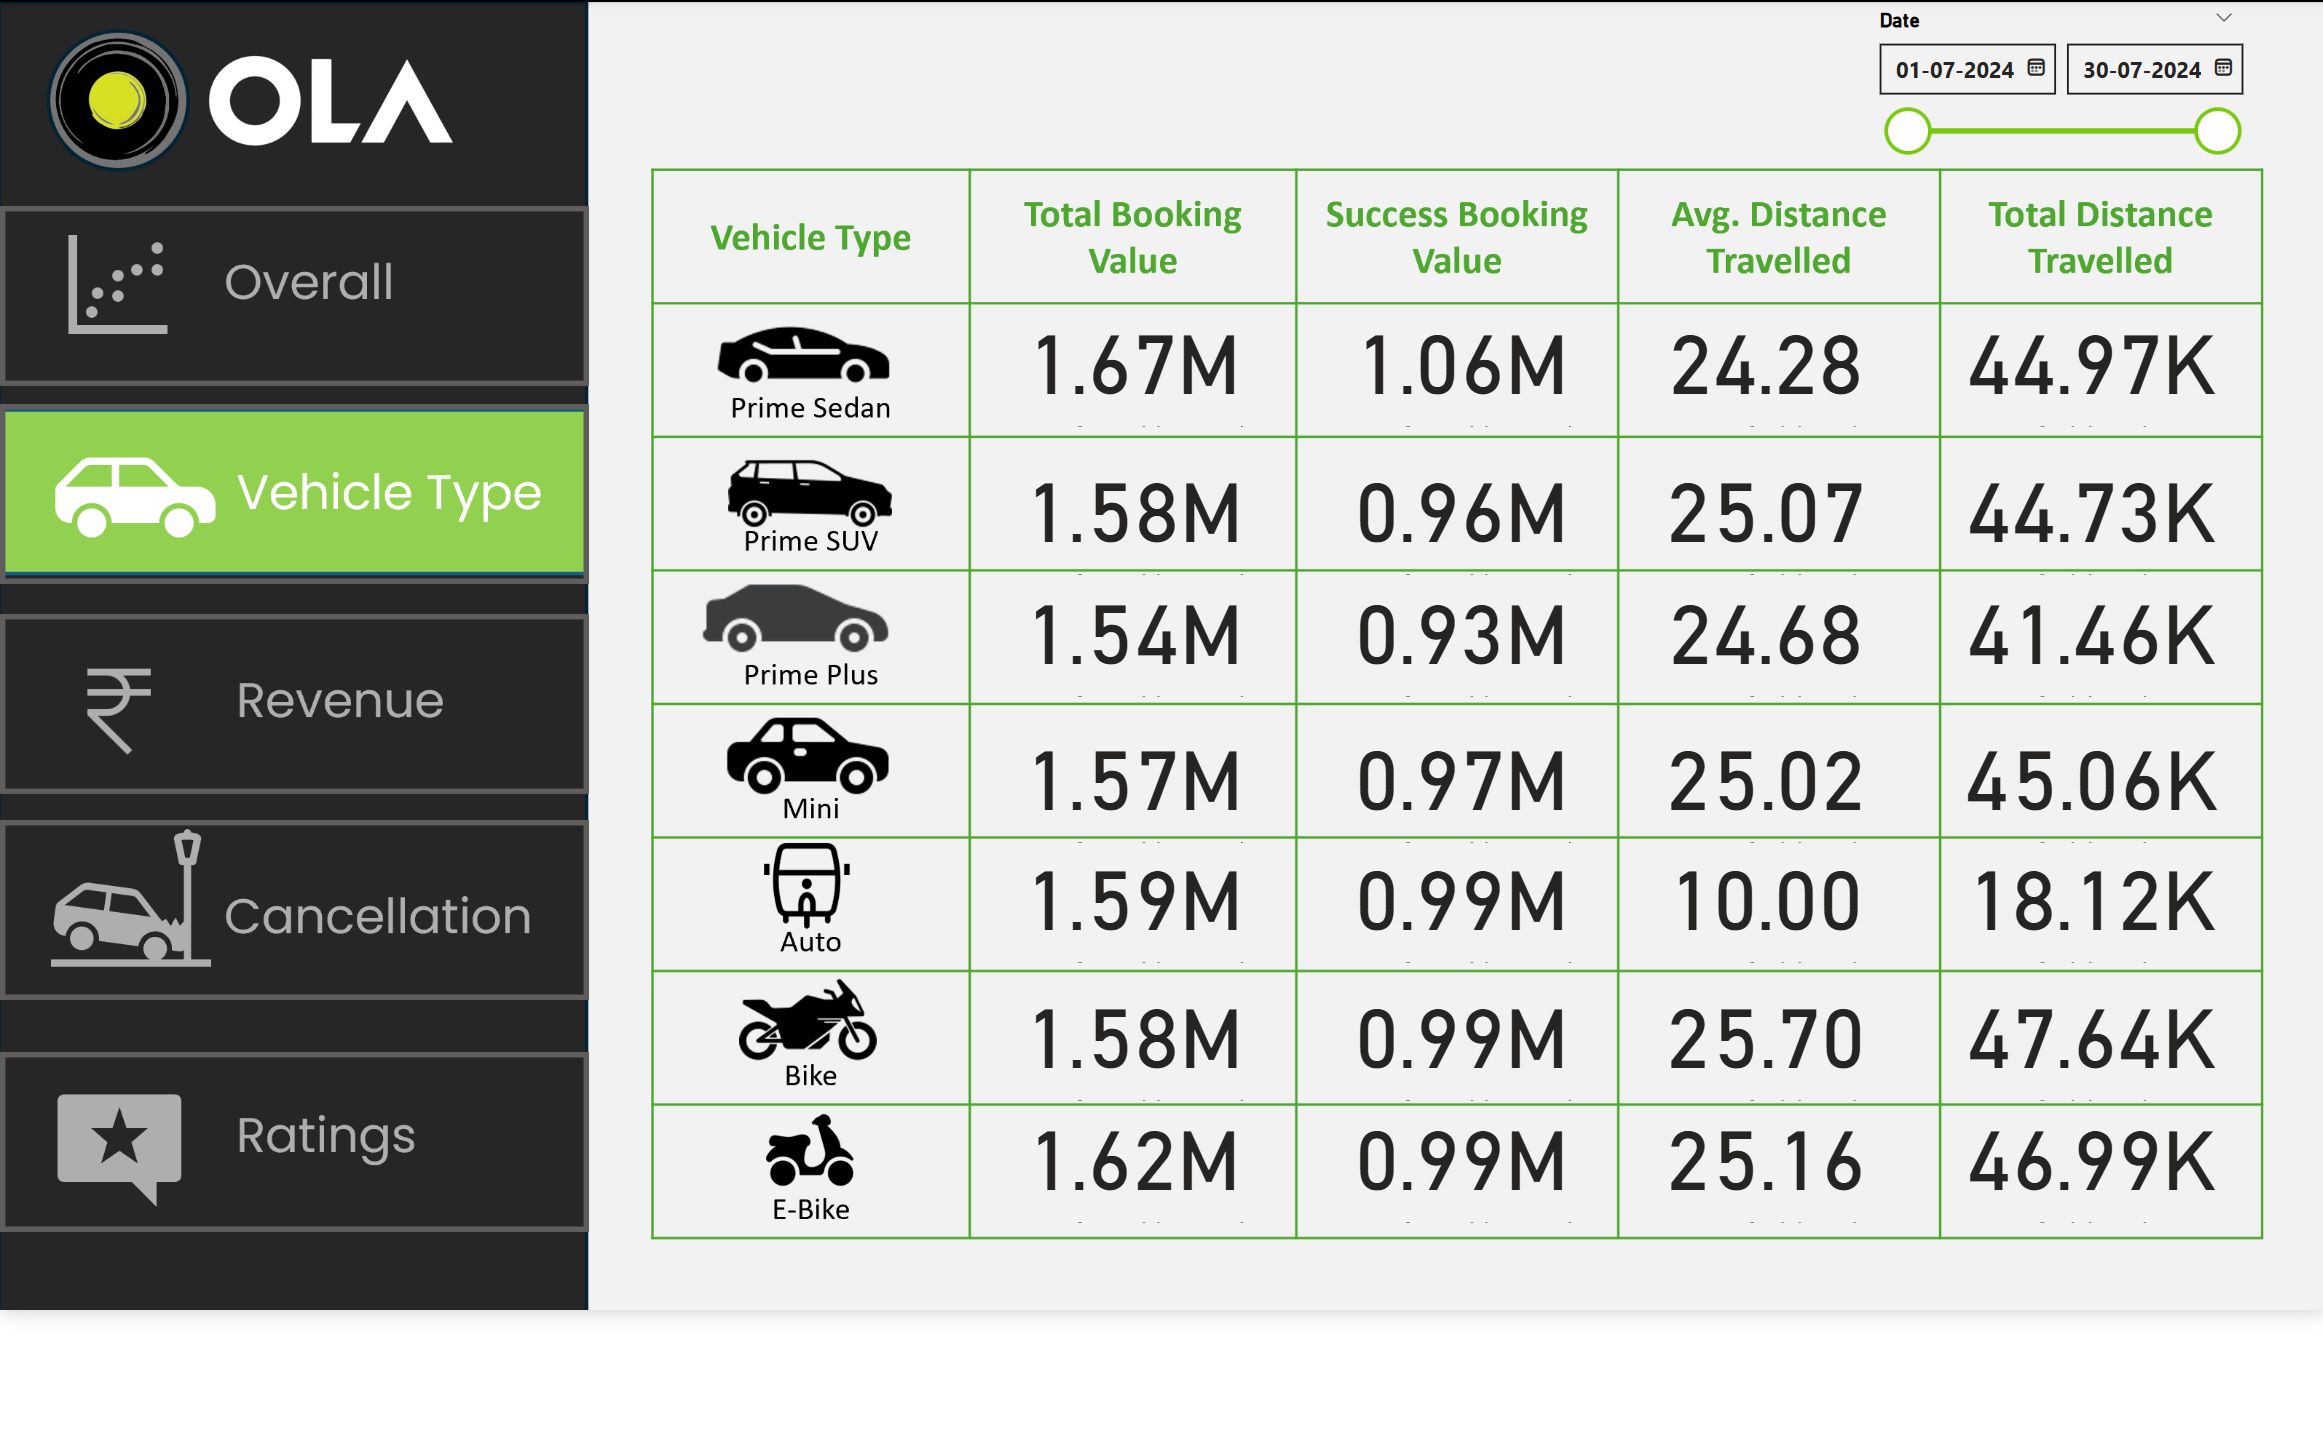

Layout of this report page (visuals, bound fields, positions):
{"tool":"powerbi","page":{"name":"Vehicle Type","canvas":[1280,720],"ordinal":1},"visuals":[{"type":"actionButton","box":[0,113.1,323.9,99],"z":0},{"type":"actionButton","box":[0,222.3,323.9,99],"z":1000},{"type":"actionButton","box":[0,338,323.9,99],"z":2000},{"type":"actionButton","box":[0,451.1,323.9,99],"z":3000},{"type":"actionButton","box":[0,578.3,323.9,99],"z":4000},{"type":"card","fields":{"Values":["Sum(OLA.Booking_Value)"]},"box":[533.3,172.2,179.9,66.8],"z":5000},{"type":"card","fields":{"Values":["Sum(OLA.Booking_Value)"]},"box":[533.3,254.5,179.9,66.8],"z":6000},{"type":"card","fields":{"Values":["Sum(OLA.Booking_Value)"]},"box":[533.3,321.3,179.9,66.8],"z":7000},{"type":"card","fields":{"Values":["Sum(OLA.Booking_Value)"]},"box":[533.3,401,179.9,66.8],"z":8000},{"type":"card","fields":{"Values":["Sum(OLA.Booking_Value)"]},"box":[533.3,467.8,179.9,66.8],"z":9000},{"type":"card","fields":{"Values":["Sum(OLA.Booking_Value)"]},"box":[533.3,543.6,179.9,66.8],"z":10000},{"type":"card","fields":{"Values":["Sum(OLA.Booking_Value)"]},"box":[533.3,610.4,179.9,66.8],"z":11000},{"type":"card","fields":{"Values":["Sum(OLA.Booking_Value)"]},"box":[713.3,172.2,179.9,66.8],"z":12000},{"type":"card","fields":{"Values":["Sum(OLA.Booking_Value)"]},"box":[713.3,254.5,179.9,66.8],"z":13000},{"type":"card","fields":{"Values":["Sum(OLA.Booking_Value)"]},"box":[713.3,321.3,179.9,66.8],"z":14000},{"type":"card","fields":{"Values":["Sum(OLA.Booking_Value)"]},"box":[713.3,401,179.9,66.8],"z":15000},{"type":"card","fields":{"Values":["Sum(OLA.Booking_Value)"]},"box":[713.3,467.8,179.9,66.8],"z":16000},{"type":"card","fields":{"Values":["Sum(OLA.Booking_Value)"]},"box":[713.3,543.6,179.9,66.8],"z":17000},{"type":"card","fields":{"Values":["Sum(OLA.Booking_Value)"]},"box":[713.3,610.4,179.9,66.8],"z":18000},{"type":"card","fields":{"Values":["Avg(OLA.Ride_Distance)"]},"box":[880.3,172.2,179.9,66.8],"z":19000},{"type":"card","fields":{"Values":["Avg(OLA.Ride_Distance)"]},"box":[880.3,254.5,179.9,66.8],"z":20000},{"type":"card","fields":{"Values":["Avg(OLA.Ride_Distance)"]},"box":[880.3,321.3,179.9,66.8],"z":21000},{"type":"card","fields":{"Values":["Avg(OLA.Ride_Distance)"]},"box":[880.3,401,179.9,66.8],"z":22000},{"type":"card","fields":{"Values":["Avg(OLA.Ride_Distance)"]},"box":[880.3,467.8,179.9,66.8],"z":23000},{"type":"card","fields":{"Values":["Avg(OLA.Ride_Distance)"]},"box":[880.3,543.6,179.9,66.8],"z":24000},{"type":"card","fields":{"Values":["Avg(OLA.Ride_Distance)"]},"box":[880.3,610.4,179.9,66.8],"z":25000},{"type":"card","fields":{"Values":["Sum(OLA.Ride_Distance)"]},"box":[1060.2,172.2,179.9,66.8],"z":26000},{"type":"card","fields":{"Values":["Sum(OLA.Ride_Distance)"]},"box":[1060.2,254.5,179.9,66.8],"z":27000},{"type":"card","fields":{"Values":["Sum(OLA.Ride_Distance)"]},"box":[1060.2,321.3,179.9,66.8],"z":28000},{"type":"card","fields":{"Values":["Sum(OLA.Ride_Distance)"]},"box":[1060.2,401,179.9,66.8],"z":29000},{"type":"card","fields":{"Values":["Sum(OLA.Ride_Distance)"]},"box":[1060.2,467.8,179.9,66.8],"z":30000},{"type":"card","fields":{"Values":["Sum(OLA.Ride_Distance)"]},"box":[1060.2,543.6,179.9,66.8],"z":31000},{"type":"card","fields":{"Values":["Sum(OLA.Ride_Distance)"]},"box":[1060.2,610.4,179.9,66.8],"z":32000},{"type":"slicer","fields":{"Values":["OLA.Date"]},"box":[1020.5,0,219.9,90.2],"z":33000}]}

Visuals, with their boxes on the page's 1280x720 design canvas (x1, y1, x2, y2). These are canvas units, not pixel positions in the 2323x1435 screenshot, which may show the page scaled, cropped or inside an application window:
actionButton: detection(0, 113, 324, 212)
actionButton: detection(0, 222, 324, 321)
actionButton: detection(0, 338, 324, 437)
actionButton: detection(0, 451, 324, 550)
actionButton: detection(0, 578, 324, 677)
card - Sum(OLA.Booking_Value): detection(533, 172, 713, 239)
card - Sum(OLA.Booking_Value): detection(533, 254, 713, 321)
card - Sum(OLA.Booking_Value): detection(533, 321, 713, 388)
card - Sum(OLA.Booking_Value): detection(533, 401, 713, 468)
card - Sum(OLA.Booking_Value): detection(533, 468, 713, 535)
card - Sum(OLA.Booking_Value): detection(533, 544, 713, 610)
card - Sum(OLA.Booking_Value): detection(533, 610, 713, 677)
card - Sum(OLA.Booking_Value): detection(713, 172, 893, 239)
card - Sum(OLA.Booking_Value): detection(713, 254, 893, 321)
card - Sum(OLA.Booking_Value): detection(713, 321, 893, 388)
card - Sum(OLA.Booking_Value): detection(713, 401, 893, 468)
card - Sum(OLA.Booking_Value): detection(713, 468, 893, 535)
card - Sum(OLA.Booking_Value): detection(713, 544, 893, 610)
card - Sum(OLA.Booking_Value): detection(713, 610, 893, 677)
card - Avg(OLA.Ride_Distance): detection(880, 172, 1060, 239)
card - Avg(OLA.Ride_Distance): detection(880, 254, 1060, 321)
card - Avg(OLA.Ride_Distance): detection(880, 321, 1060, 388)
card - Avg(OLA.Ride_Distance): detection(880, 401, 1060, 468)
card - Avg(OLA.Ride_Distance): detection(880, 468, 1060, 535)
card - Avg(OLA.Ride_Distance): detection(880, 544, 1060, 610)
card - Avg(OLA.Ride_Distance): detection(880, 610, 1060, 677)
card - Sum(OLA.Ride_Distance): detection(1060, 172, 1240, 239)
card - Sum(OLA.Ride_Distance): detection(1060, 254, 1240, 321)
card - Sum(OLA.Ride_Distance): detection(1060, 321, 1240, 388)
card - Sum(OLA.Ride_Distance): detection(1060, 401, 1240, 468)
card - Sum(OLA.Ride_Distance): detection(1060, 468, 1240, 535)
card - Sum(OLA.Ride_Distance): detection(1060, 544, 1240, 610)
card - Sum(OLA.Ride_Distance): detection(1060, 610, 1240, 677)
slicer - OLA.Date: detection(1020, 0, 1240, 90)
